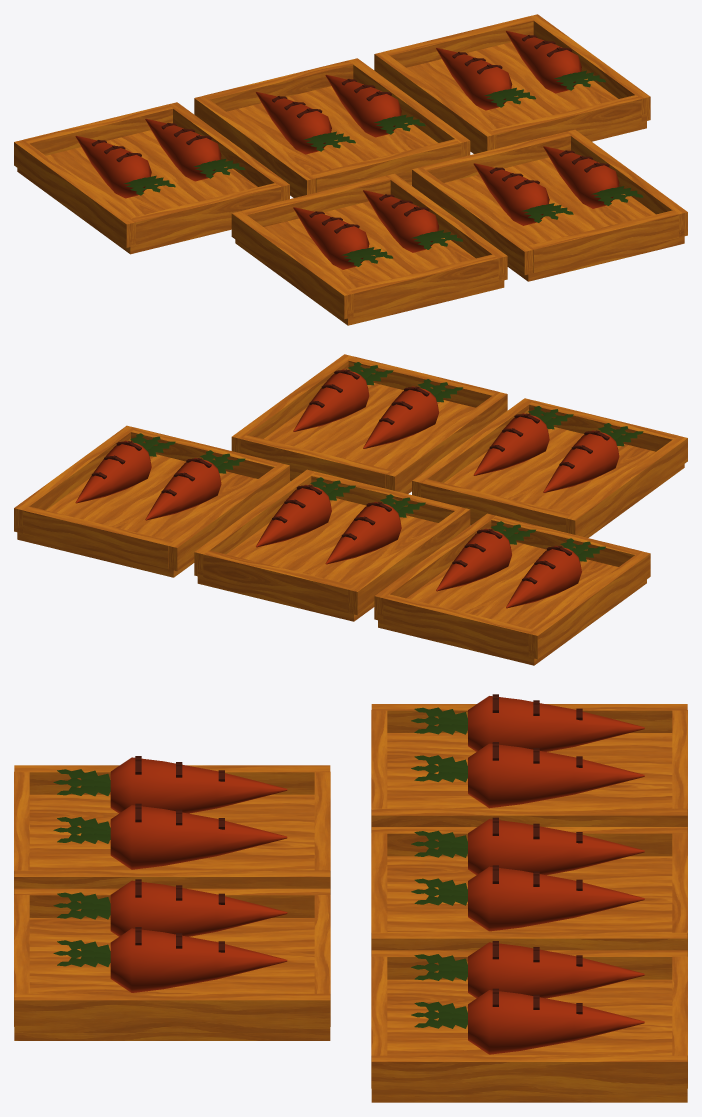
The model's file is pile-roastedCarrot-5.obj.
The picture shows the model from 3 angles, top to bottom: view 1: azimuth 30°, elevation 25°; view 2: azimuth 150°, elevation 25°; view 3: azimuth 270°, elevation 25°; orthographic projection. The views are drawn at different scales.
Visible parts, largest first — view 1: pile-roastedCarrot-5; view 2: pile-roastedCarrot-5; view 3: pile-roastedCarrot-5.
Part boxes in pixels (<box>): pile-roastedCarrot-5: <box>14,14,687,325</box>; pile-roastedCarrot-5: <box>14,354,687,665</box>; pile-roastedCarrot-5: <box>14,694,687,1102</box>.
Bounding box in the file's own units: 0.9008 × 0.0956 × 0.7165.
Materials: 2 (2 with a texture image).
